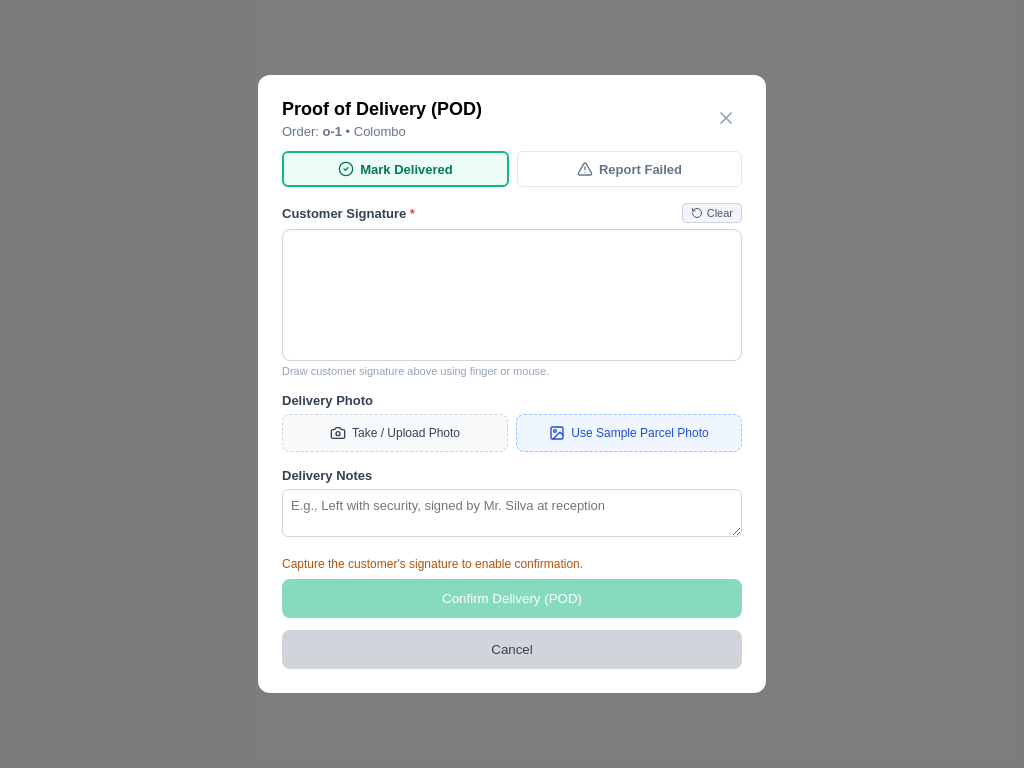
Test: ProofOfDeliveryModal › is a labelled modal dialog that Escape dismisses, except while submitting
Later steps or results of the test are not shown.
Expected: the button named "Close" is shown, [710, 106, 742, 132]
Press the mouse on the drawing: (512, 295) [283, 230, 741, 360]
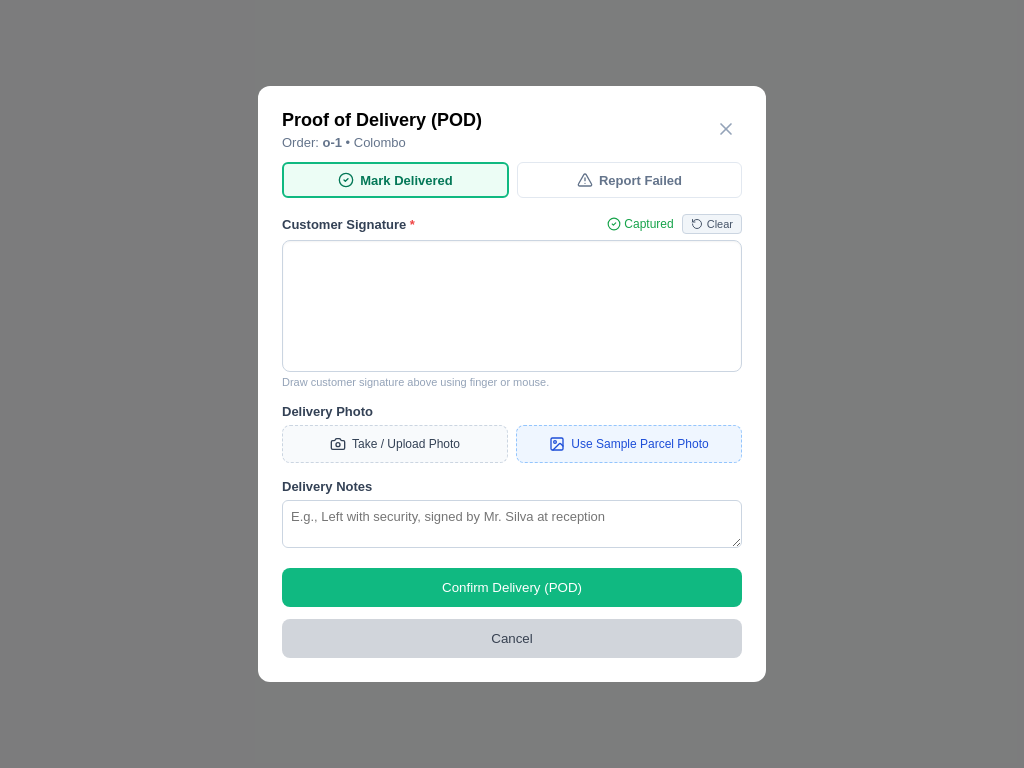
Click the button "Confirm Delivery (POD)": (512, 588) [282, 568, 742, 607]
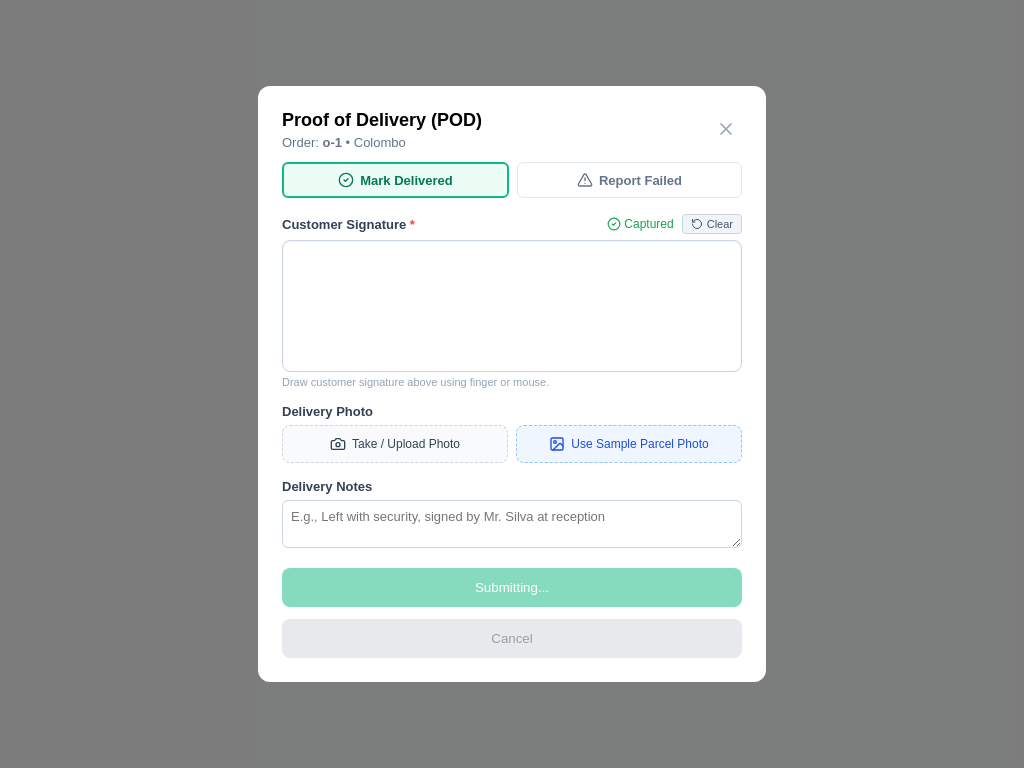
Result: the button "Submitting..." is shown at [282, 568, 742, 607]
